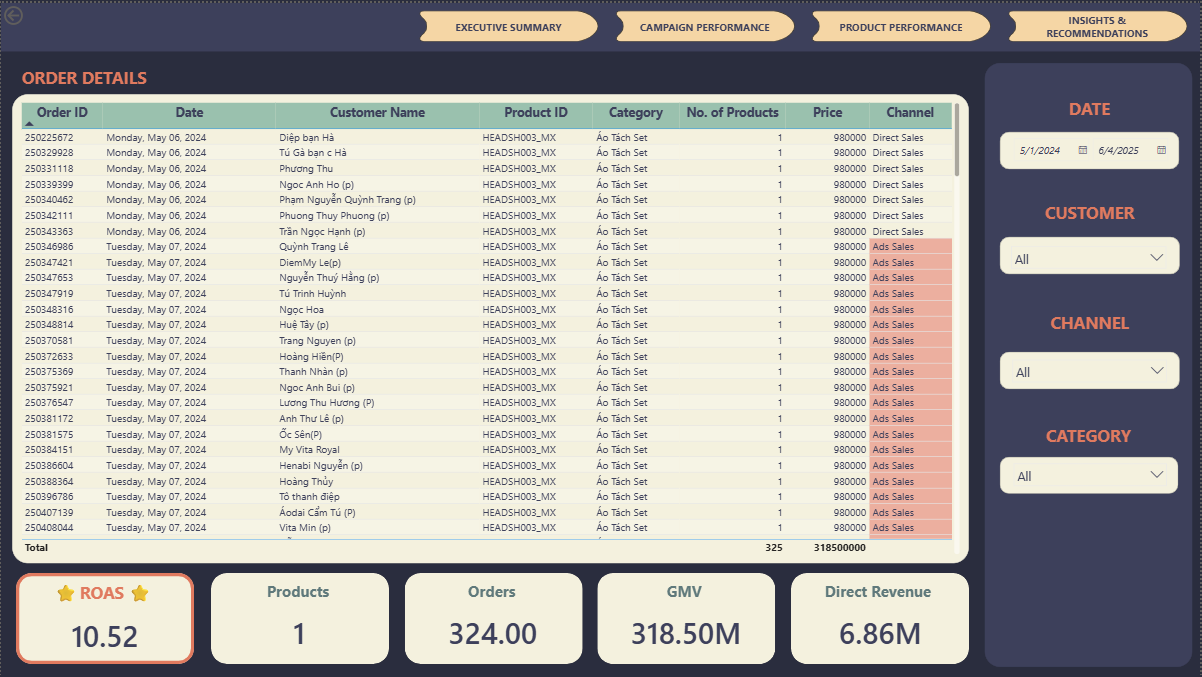

This screenshot's page, from the dashboard's own definition file:
{"tool":"powerbi","page":{"name":"Product Details","canvas":[1920,1080],"ordinal":5},"visuals":[{"type":"tableEx","fields":{"Values":["Fact_Order.ID","Fact_Order.Thời gian","Fact_Order.Tên khách hàng","Fact_Order.Mã sản phẩm cha","Dim_Product.Danh mục","Sum(Fact_Order.Số lượng)","Sum(Fact_Order.Giá)","Fact_Order.Custom"]},"box":[17.5,145,1530,750],"z":0},{"type":"textbox","box":[1574,96,332,966],"z":1000},{"type":"shape","box":[1597.1,205.7,287.1,60],"z":1000,"group":"g7"},{"type":"shape","box":[23.1,912.5,284.8,145.5],"z":1000,"group":"g1"},{"type":"shape","box":[334.2,912.5,284.8,145.4],"z":1000,"group":"g2"},{"type":"shape","box":[645.9,912.5,284.8,145.4],"z":1000,"group":"g3"},{"type":"shape","box":[953.9,912.5,284.8,145.9],"z":1000,"group":"g4"},{"type":"shape","box":[1263.3,912.5,284.8,145.9],"z":1000,"group":"g5"},{"type":"shape","box":[0,0,1920,77.5],"z":2000},{"type":"pageNavigator","box":[662,12,1244,50],"z":3000},{"type":"shape","box":[1598.7,726.2,285.6,59.3],"z":3000,"group":"g10"},{"type":"textbox","box":[1597.1,145.7,287.1,50],"z":4000},{"type":"actionButton","box":[0,0,100,40],"z":5000},{"type":"slicer","fields":{"Values":["Dim_Date.Date"]},"box":[1606.9,211.8,268.6,52.9],"z":5000,"group":"g7"},{"type":"slicer","fields":{"Values":["Dim_Product.Danh mục"]},"box":[1610.6,732.1,265,50],"z":5000,"group":"g10"},{"type":"textbox","box":[17.5,921.2,290.5,66.6],"z":5000,"group":"g1"},{"type":"textbox","box":[328.6,921.2,290.5,66.6],"z":5000,"group":"g2"},{"type":"textbox","box":[640.3,921.2,290.5,66.6],"z":5000,"group":"g3"},{"type":"textbox","box":[948.3,921.2,290.5,66.8],"z":5000,"group":"g4"},{"type":"textbox","box":[1257.7,921.2,290.5,66.8],"z":5000,"group":"g5"},{"type":"textbox","box":[1596.2,668.8,287.5,46],"z":6000},{"type":"group","id":"g1","title":"Group 1","box":[17.5,912.5,291.1,147.5],"z":6000,"group":"g6"},{"type":"group","id":"g2","title":"Group 1","box":[328.6,912.5,290.5,145.9],"z":6000,"group":"g8"},{"type":"group","id":"g3","title":"Group 1","box":[640.3,912.5,290.5,145.9],"z":6000,"group":"g14"},{"type":"group","id":"g4","title":"Group 1","box":[948.3,912.5,290.5,145.9],"z":6000,"group":"g12"},{"type":"group","id":"g5","title":"Group 1","box":[1257.7,912.5,290.5,145.9],"z":6000,"group":"g13"},{"type":"shape","box":[1598,374,288,60],"z":7000},{"type":"textbox","box":[28,96,306,50],"z":8000},{"type":"group","id":"g6","title":"Group 3","box":[17.5,912.5,292.4,147.5],"z":8000,"group":"g11"},{"type":"textbox","box":[1598,312,288,50],"z":9000},{"type":"slicer","fields":{"Values":["Fact_Order.Tên khách hàng"]},"box":[1605.7,384.3,268.6,50],"z":10000},{"type":"shape","box":[1598,558,288,60],"z":10000,"group":"g9"},{"type":"textbox","box":[1598,488,288,46],"z":11000},{"type":"group","id":"g7","title":"Group 1","box":[1597.1,205.7,287.1,60],"z":12000},{"type":"group","id":"g8","title":"Group 3","box":[328.6,912.5,289.8,145],"z":12000,"group":"g11"},{"type":"group","id":"g9","title":"Group 2","box":[1598,558,288,60],"z":13000},{"type":"slicer","fields":{"Values":["Fact_Order.Custom"]},"box":[1608,565.5,267.5,51.2],"z":13000,"group":"g9"},{"type":"group","id":"g10","title":"Group 3","box":[1598.7,726.2,285.6,59.3],"z":14000},{"type":"group","id":"g11","title":"Group 4","box":[17.5,912.5,1530,147.5],"z":15000},{"type":"group","id":"g12","title":"Group 3","box":[948.3,912.5,292.4,147.5],"z":15000,"group":"g11"},{"type":"group","id":"g13","title":"Group 3","box":[1257.7,912.5,289.8,145],"z":16000,"group":"g11"},{"type":"cardVisual","fields":{"Data":["_Measures.SKU Count"]},"box":[335.1,953.9,282.5,104.5],"z":16000,"group":"g2"},{"type":"cardVisual","fields":{"Data":["_Measures.Orders Count"]},"box":[646.8,953.9,282.5,104.5],"z":16000,"group":"g3"},{"type":"cardVisual","fields":{"Data":["_Measures.GMV"]},"box":[953.8,954.1,284.9,103.5],"z":16000,"group":"g4"},{"type":"cardVisual","fields":{"Data":["_Measures.Revenue Direct Sales"]},"box":[1264.7,954.7,282.5,103.5],"z":16000,"group":"g5"},{"type":"cardVisual","fields":{"Data":["_Measures.ROAS (Return on Ads Spend)"]},"box":[25.7,959.8,281.4,99.5],"z":16000,"group":"g1"},{"type":"group","id":"g14","title":"Group 3","box":[640.3,912.5,289.8,145],"z":20001,"group":"g11"}]}

Visuals, with their boxes in screenshot pixels (x1, y1, x2, y2), scaled from the page's 1920x1080 canvas onto the 1202x677 screenshot:
tableEx - Fact_Order.ID x Fact_Order.Thời gian: box=[11, 91, 969, 561]
textbox: box=[985, 60, 1193, 666]
shape: box=[1000, 129, 1180, 167]
shape: box=[14, 572, 193, 663]
shape: box=[209, 572, 388, 663]
shape: box=[404, 572, 583, 663]
shape: box=[597, 572, 775, 663]
shape: box=[791, 572, 969, 663]
shape: box=[0, 0, 1201, 49]
pageNavigator: box=[414, 8, 1193, 39]
shape: box=[1001, 455, 1180, 492]
textbox: box=[1000, 91, 1180, 123]
actionButton: box=[0, 0, 63, 25]
slicer - Dim_Date.Date: box=[1006, 133, 1174, 166]
slicer - Dim_Product.Danh mục: box=[1008, 459, 1174, 490]
textbox: box=[11, 577, 193, 619]
textbox: box=[206, 577, 388, 619]
textbox: box=[401, 577, 583, 619]
textbox: box=[594, 577, 776, 619]
textbox: box=[787, 577, 969, 619]
textbox: box=[999, 419, 1179, 448]
"Group 1" group: box=[11, 572, 193, 664]
"Group 1" group: box=[206, 572, 388, 663]
"Group 1" group: box=[401, 572, 583, 663]
"Group 1" group: box=[594, 572, 776, 663]
"Group 1" group: box=[787, 572, 969, 663]
shape: box=[1000, 234, 1181, 272]
textbox: box=[18, 60, 209, 92]
"Group 3" group: box=[11, 572, 194, 664]
textbox: box=[1000, 196, 1181, 227]
slicer - Fact_Order.Tên khách hàng: box=[1005, 241, 1173, 272]
shape: box=[1000, 350, 1181, 387]
textbox: box=[1000, 306, 1181, 335]
"Group 1" group: box=[1000, 129, 1180, 167]
"Group 3" group: box=[206, 572, 387, 663]
"Group 2" group: box=[1000, 350, 1181, 387]
slicer - Fact_Order.Custom: box=[1007, 354, 1174, 387]
"Group 3" group: box=[1001, 455, 1180, 492]
"Group 4" group: box=[11, 572, 969, 664]
"Group 3" group: box=[594, 572, 777, 664]
"Group 3" group: box=[787, 572, 969, 663]
cardVisual - _Measures.SKU Count: box=[210, 598, 387, 663]
cardVisual - _Measures.Orders Count: box=[405, 598, 582, 663]
cardVisual - _Measures.GMV: box=[597, 598, 775, 663]
cardVisual - _Measures.Revenue Direct Sales: box=[792, 598, 969, 663]
cardVisual - _Measures.ROAS (Return on Ads Spend): box=[16, 602, 192, 664]
"Group 3" group: box=[401, 572, 582, 663]
